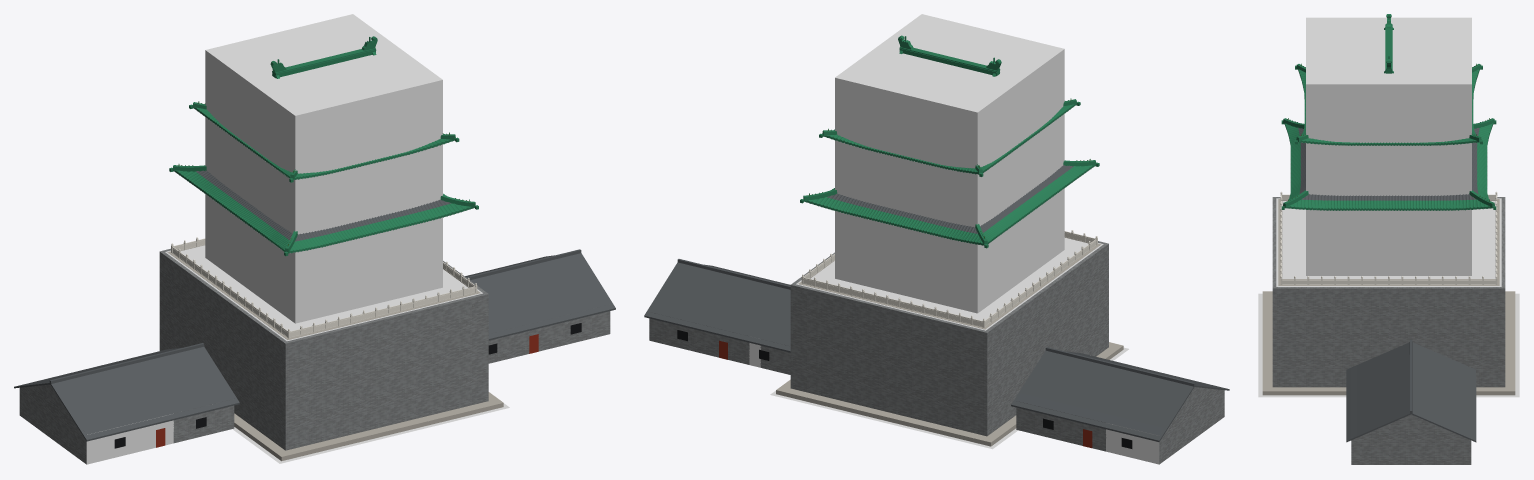
Rendered from zhonglou.glb.
The picture shows the model from 3 angles, left to right: view 1: azimuth 30°, elevation 25°; view 2: azimuth 150°, elevation 25°; view 3: azimuth 270°, elevation 25°; orthographic projection. The views are drawn at different scales.
Visible parts, largest first — view 1: COL_hall, Massing, SideHalls, BellTower, COL_sidehall1, COL_block0, FOOTPRINT_bell, COL_block1, COL_block3; view 2: COL_hall, Massing, SideHalls, BellTower, COL_sidehall1, COL_block1, FOOTPRINT_bell, COL_block0, COL_block4; view 3: COL_hall, Massing, SideHalls, BellTower, FOOTPRINT_bell, COL_block3, COL_block4, COL_block6, COL_block0, COL_block1.
Boxes of the visible parts, bbox=[...] form: COL_hall: bbox=[205, 14, 442, 323]; Massing: bbox=[20, 48, 610, 460]; SideHalls: bbox=[14, 249, 615, 464]; BellTower: bbox=[167, 36, 503, 460]; COL_sidehall1: bbox=[86, 413, 173, 464]; COL_block0: bbox=[236, 298, 365, 341]; FOOTPRINT_bell: bbox=[232, 403, 509, 463]; COL_block1: bbox=[165, 245, 239, 289]; COL_block3: bbox=[388, 269, 482, 312]; COL_hall: bbox=[835, 14, 1064, 313]; Massing: bbox=[649, 47, 1222, 446]; SideHalls: bbox=[644, 259, 1229, 464]; BellTower: bbox=[776, 35, 1100, 446]; COL_sidehall1: bbox=[1106, 423, 1159, 464]; COL_block1: bbox=[909, 288, 1034, 330]; FOOTPRINT_bell: bbox=[770, 347, 1128, 449]; COL_block0: bbox=[1031, 237, 1103, 280]; COL_block4: bbox=[796, 261, 887, 302]; COL_hall: bbox=[1306, 17, 1471, 275]; Massing: bbox=[1262, 24, 1515, 437]; SideHalls: bbox=[1346, 339, 1476, 464]; BellTower: bbox=[1278, 14, 1499, 285]; FOOTPRINT_bell: bbox=[1258, 293, 1519, 397]; COL_block3: bbox=[1276, 251, 1370, 286]; COL_block4: bbox=[1407, 251, 1501, 286]; COL_block6: bbox=[1276, 234, 1501, 251]; COL_block0: bbox=[1276, 198, 1305, 233]; COL_block1: bbox=[1472, 198, 1501, 233].
Bounding box in the file's own units: 78.53 × 47.35 × 36.2.
Materials: 10 (2 with a texture image).
